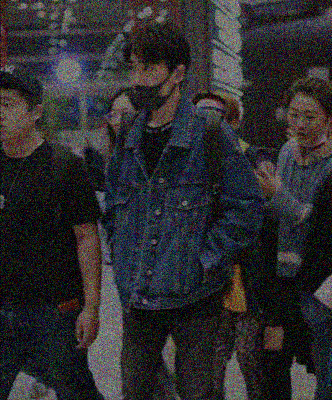mask_weared_incorrect: (124, 57, 170, 111), (286, 103, 325, 146)
without_mask: (0, 94, 28, 140), (109, 94, 134, 135)
